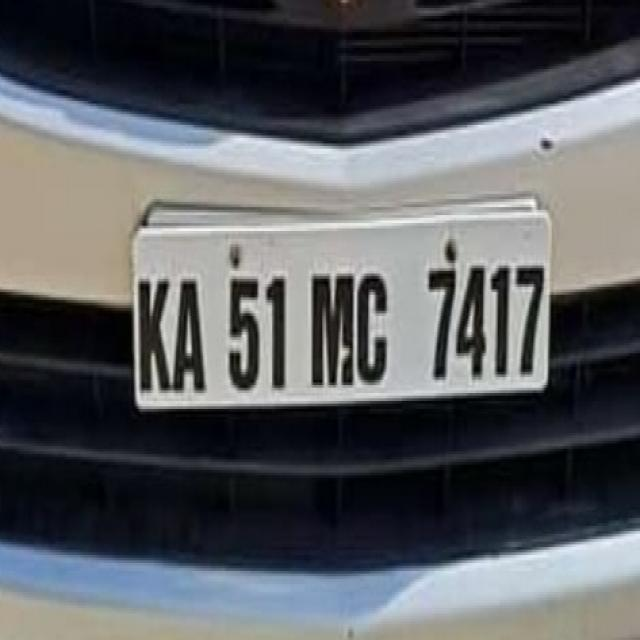1: (262, 258, 292, 398), (487, 257, 512, 388)
4: (456, 252, 488, 386)
5: (222, 264, 262, 398)
7: (425, 257, 458, 388), (515, 249, 546, 385)
A: (171, 274, 208, 399)
C: (356, 257, 392, 393)
K: (134, 274, 172, 401)
M: (304, 258, 358, 398)
